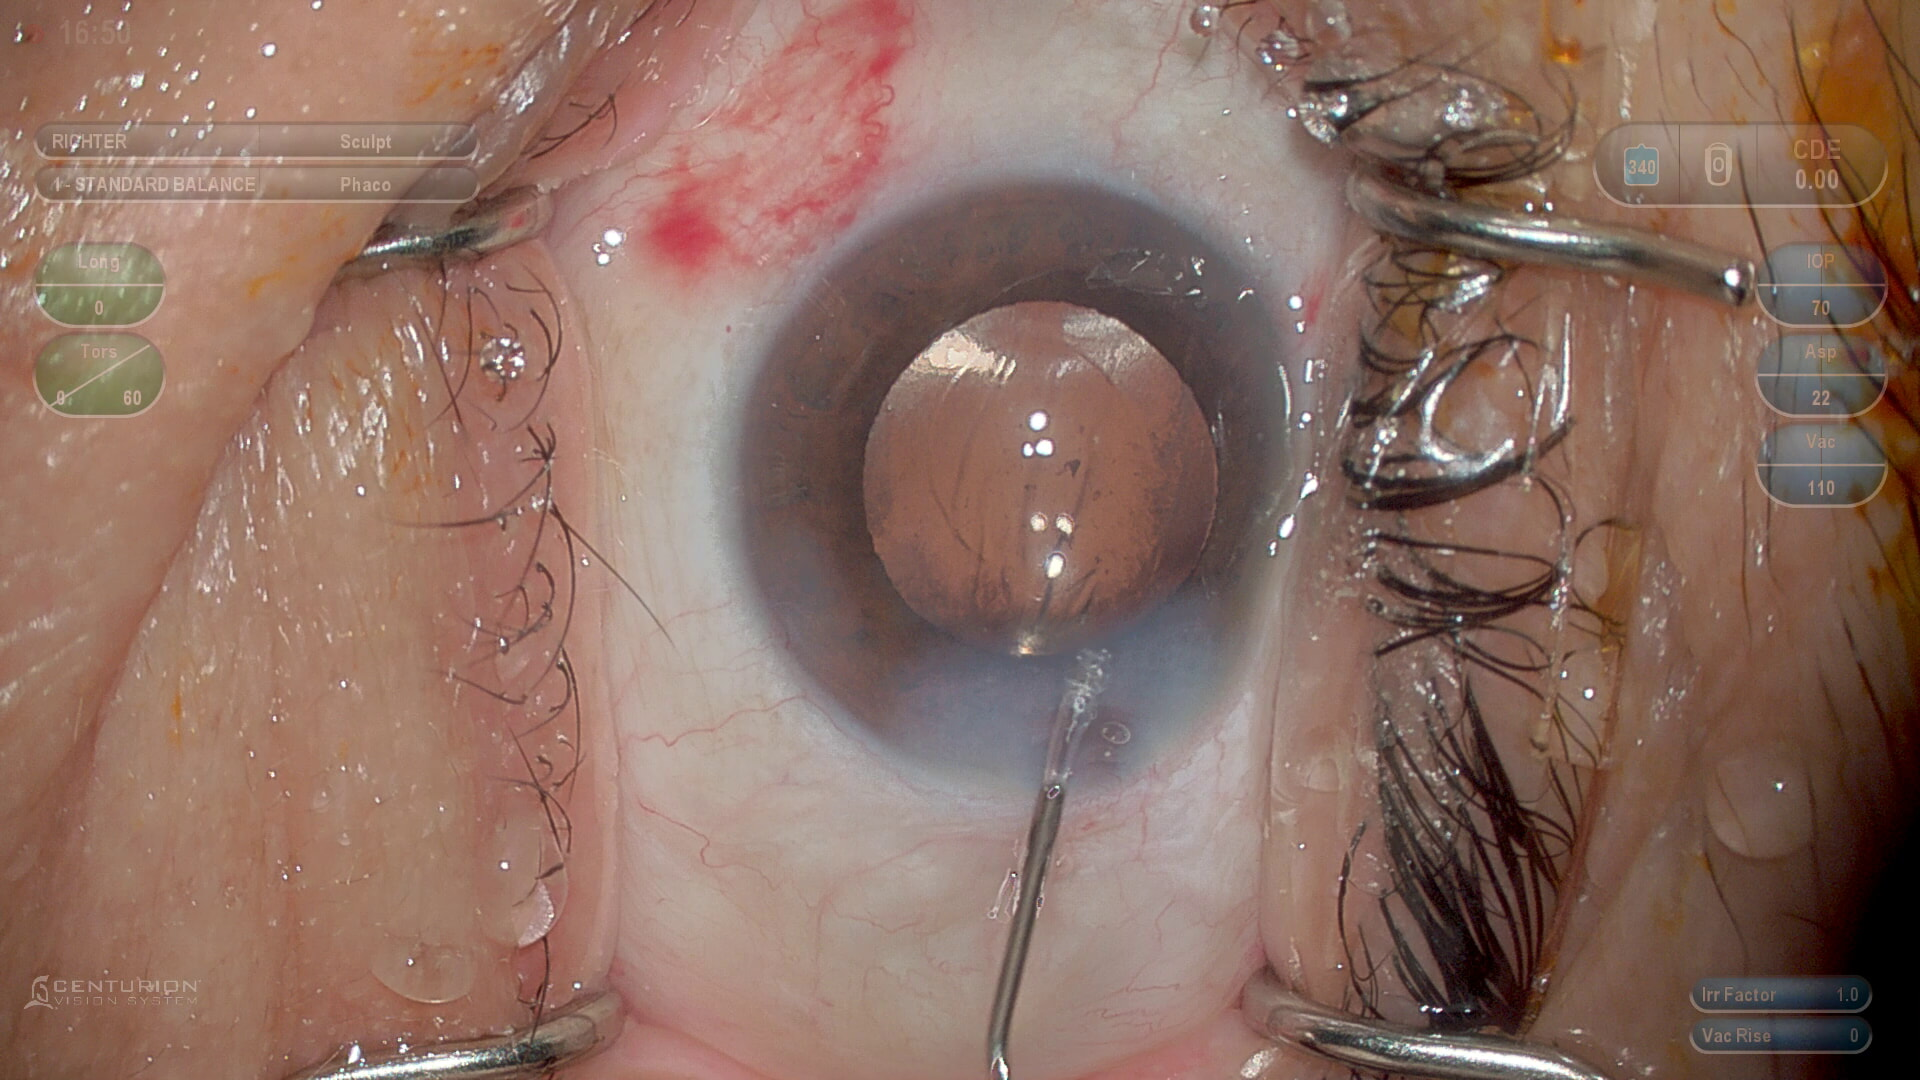iris: (740, 180, 1308, 782)
pupil: (864, 302, 1223, 660)
